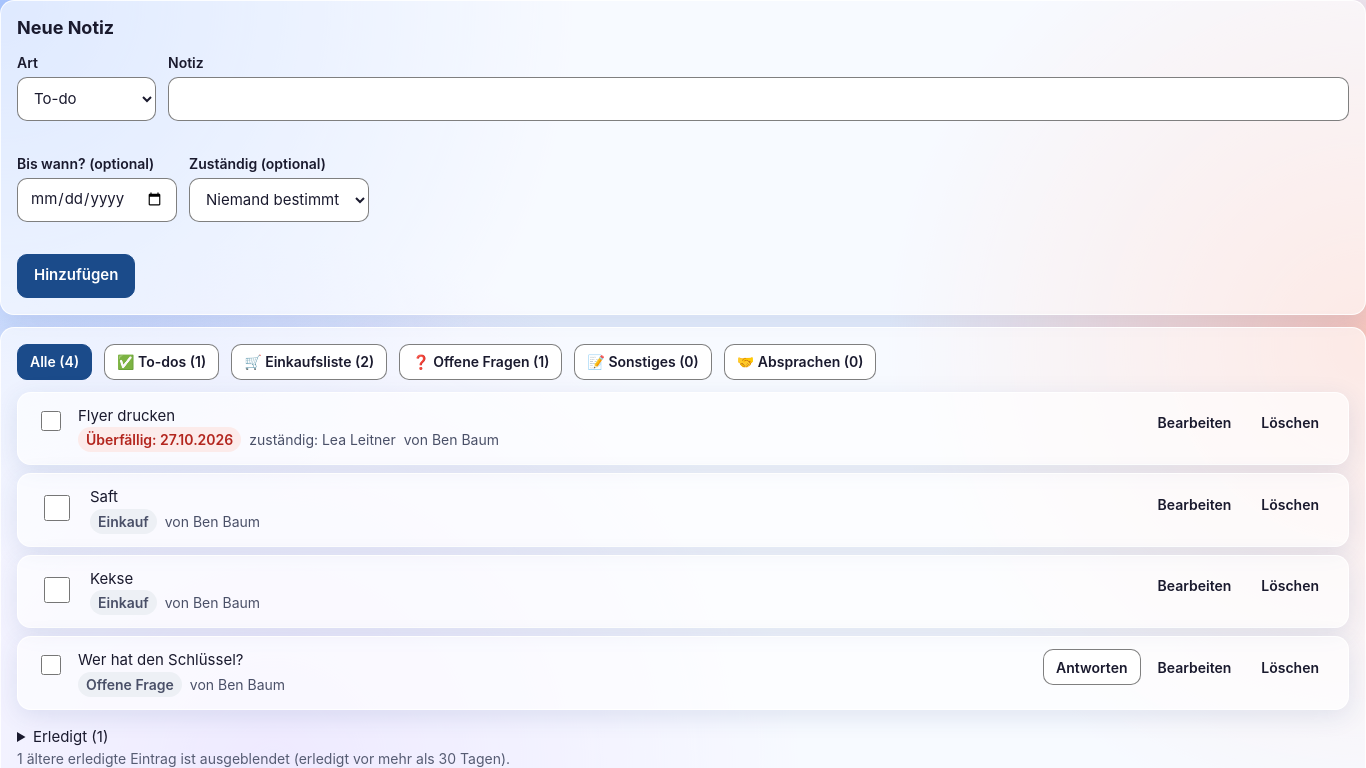
Test: Notizen: anzeigen und filtern › Filter zeigt nur eine Art
The width and height of the screenshot is (1366, 768).
Step 1. Click the button "🛒 Einkaufsliste (2)" → (309, 362), box x1=231 y1=344 x2=387 y2=380
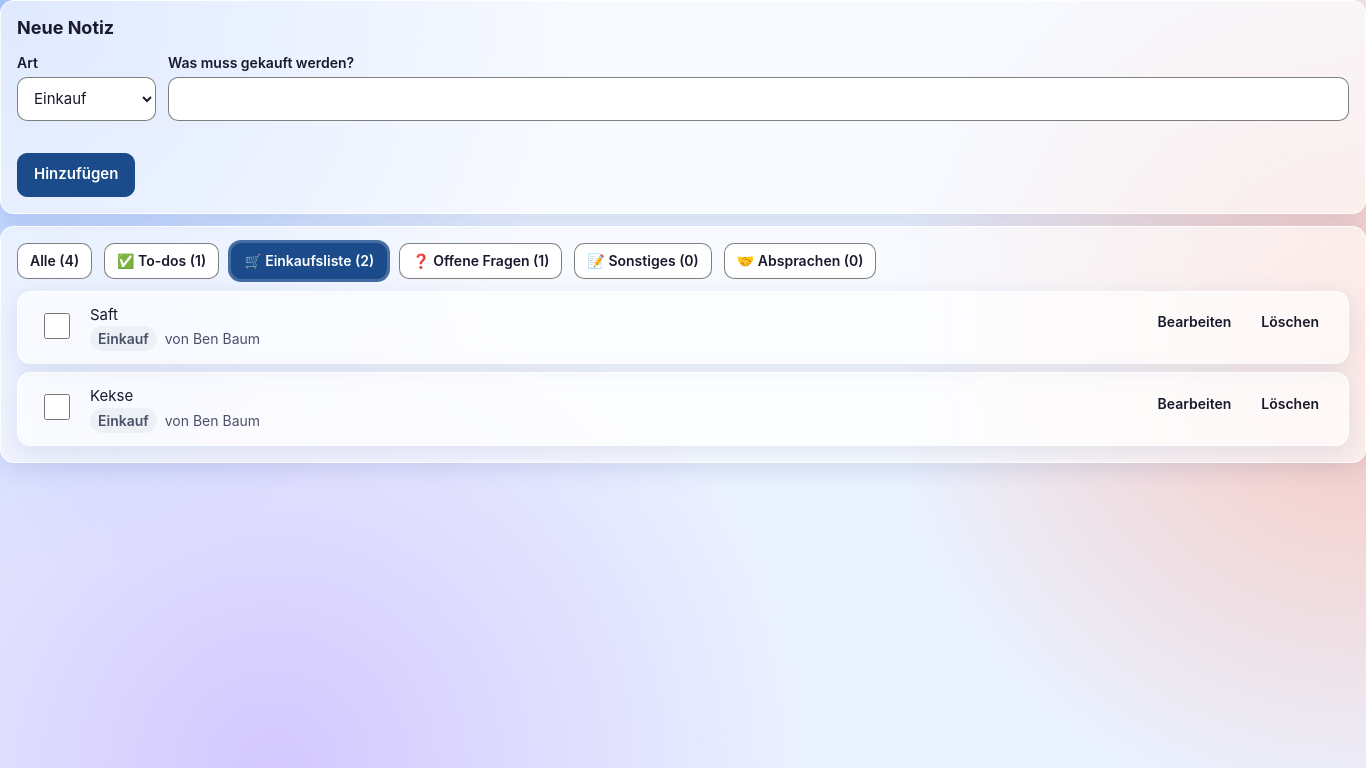
Expected: the text "Saft" is shown, x1=90 y1=304 x2=118 y2=324
Now the number of list items is 2, box x1=17 y1=290 x2=1349 y2=364; x1=17 y1=372 x2=1349 y2=446
Now the text "Flyer drucken" is gone
